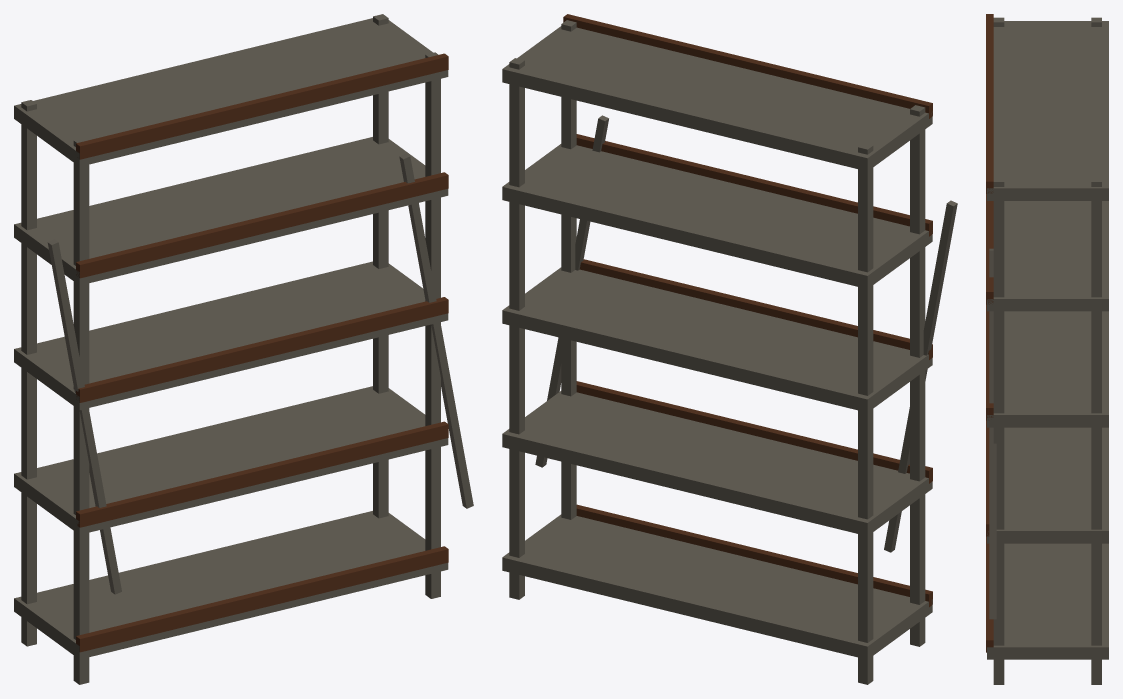
The model's file is metal_shelf_80s.glb.
The picture shows the model from 3 angles, left to right: view 1: azimuth 30°, elevation 25°; view 2: azimuth 150°, elevation 25°; view 3: azimuth 270°, elevation 25°; orthographic projection. The views are drawn at different scales.
Parts seen in each view (by area): view 1: _MeshInstance3D_136, metal__steel_shelf, _MeshInstance3D_132, _MeshInstance3D_130, _MeshInstance3D_134, metal__upright, _MeshInstance3D_127, _MeshInstance3D_137, rust__front_lip, _MeshInstance3D_135, _MeshInstance3D_131, _MeshInstance3D_133 (+4 smaller); view 2: _MeshInstance3D_136, metal__steel_shelf, _MeshInstance3D_132, _MeshInstance3D_134, _MeshInstance3D_130, metal__upright, _MeshInstance3D_128, _MeshInstance3D_127, _MeshInstance3D_137, rust__front_lip, _MeshInstance3D_131, _MeshInstance3D_135 (+4 smaller); view 3: _MeshInstance3D_136, _MeshInstance3D_132, metal__steel_shelf, _MeshInstance3D_130, _MeshInstance3D_134, _MeshInstance3D_128, _MeshInstance3D_129, _MeshInstance3D_138, _MeshInstance3D_137, _MeshInstance3D_135, rust__front_lip, _MeshInstance3D_133 (+1 smaller).
Boxes of the visible parts, x1,y1,x2,y2 form: _MeshInstance3D_136: [14, 18, 448, 166]; metal__steel_shelf: [14, 511, 448, 659]; _MeshInstance3D_132: [14, 261, 448, 410]; _MeshInstance3D_130: [14, 386, 448, 534]; _MeshInstance3D_134: [14, 137, 448, 285]; metal__upright: [21, 100, 36, 646]; _MeshInstance3D_127: [73, 138, 89, 684]; _MeshInstance3D_137: [76, 53, 448, 159]; rust__front_lip: [76, 546, 448, 652]; _MeshInstance3D_135: [76, 172, 448, 278]; _MeshInstance3D_131: [76, 421, 448, 527]; _MeshInstance3D_133: [76, 297, 448, 402]; _MeshInstance3D_136: [502, 26, 932, 171]; metal__steel_shelf: [502, 514, 932, 659]; _MeshInstance3D_132: [502, 267, 932, 412]; _MeshInstance3D_134: [502, 144, 932, 288]; _MeshInstance3D_130: [502, 391, 932, 536]; metal__upright: [858, 143, 873, 684]; _MeshInstance3D_128: [509, 58, 524, 599]; _MeshInstance3D_127: [910, 105, 925, 646]; _MeshInstance3D_137: [563, 14, 932, 118]; rust__front_lip: [576, 504, 932, 607]; _MeshInstance3D_131: [576, 381, 932, 483]; _MeshInstance3D_135: [576, 134, 932, 236]; _MeshInstance3D_136: [987, 21, 1108, 200]; _MeshInstance3D_132: [987, 311, 1108, 427]; metal__steel_shelf: [987, 543, 1108, 659]; _MeshInstance3D_130: [987, 427, 1108, 543]; _MeshInstance3D_134: [987, 201, 1108, 311]; _MeshInstance3D_128: [1091, 177, 1101, 684]; _MeshInstance3D_129: [993, 177, 1004, 684]; _MeshInstance3D_138: [989, 248, 996, 619]; _MeshInstance3D_137: [986, 14, 993, 193]; _MeshInstance3D_135: [986, 194, 993, 304]; rust__front_lip: [986, 536, 993, 652]; _MeshInstance3D_133: [986, 304, 993, 420].
Bounding box in the file's own units: 1.49 × 1.83 × 0.4025.
